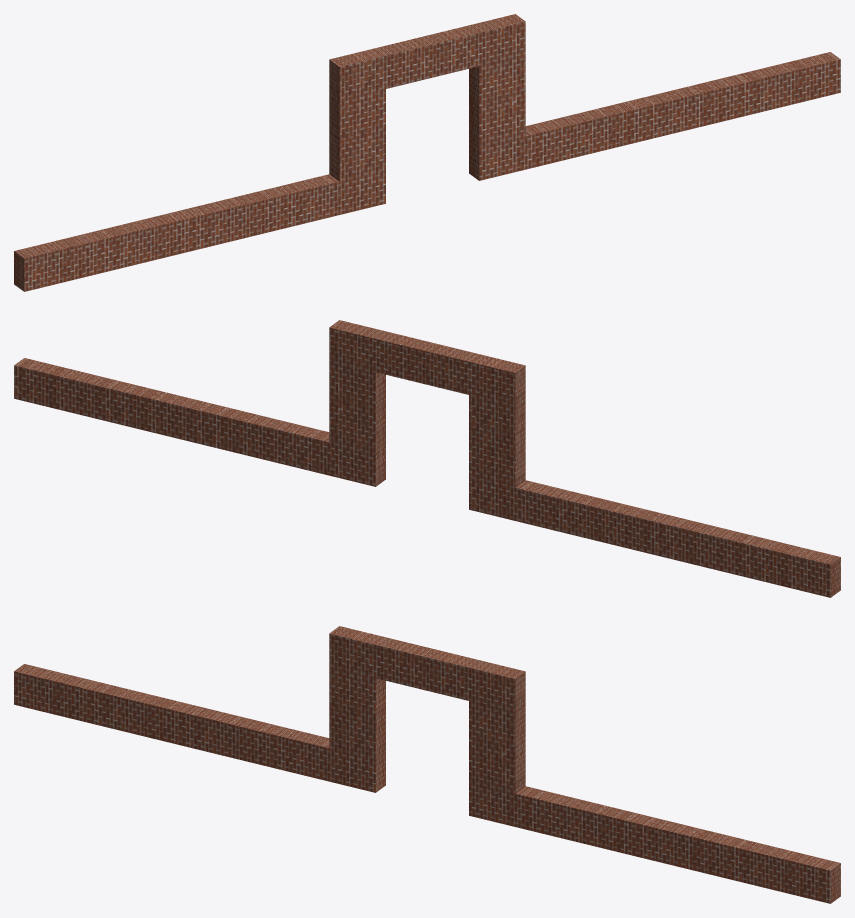
The model's file is muro.obj.
3 views of the same model, one above another, from view 1: azimuth 30°, elevation 25°; view 2: azimuth 150°, elevation 25°; view 3: azimuth 330°, elevation 25° (orthographic).
Visible parts, largest first — view 1: pCube2; view 2: pCube2; view 3: pCube2.
Part boxes in pixels (x1,y1,x2,y2): pCube2: [14, 14, 840, 291]; pCube2: [14, 320, 840, 597]; pCube2: [14, 626, 840, 903].
Size of the model in its own units: 10.62 by 1.84 by 0.2329.
1 material, 1 textured.
